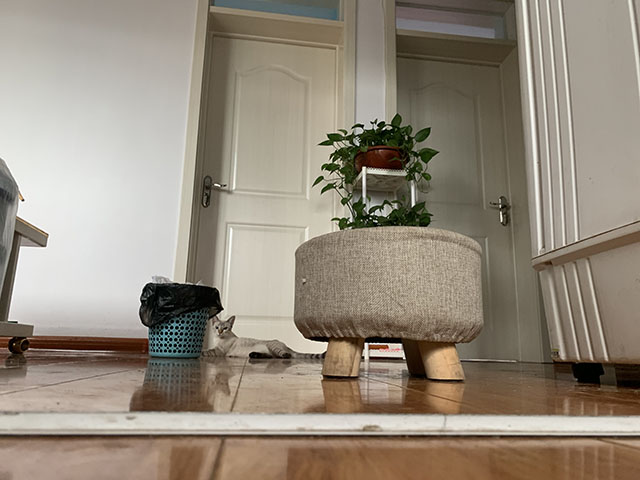stool: (293, 224, 485, 382)
trashcan: (138, 274, 225, 360)
